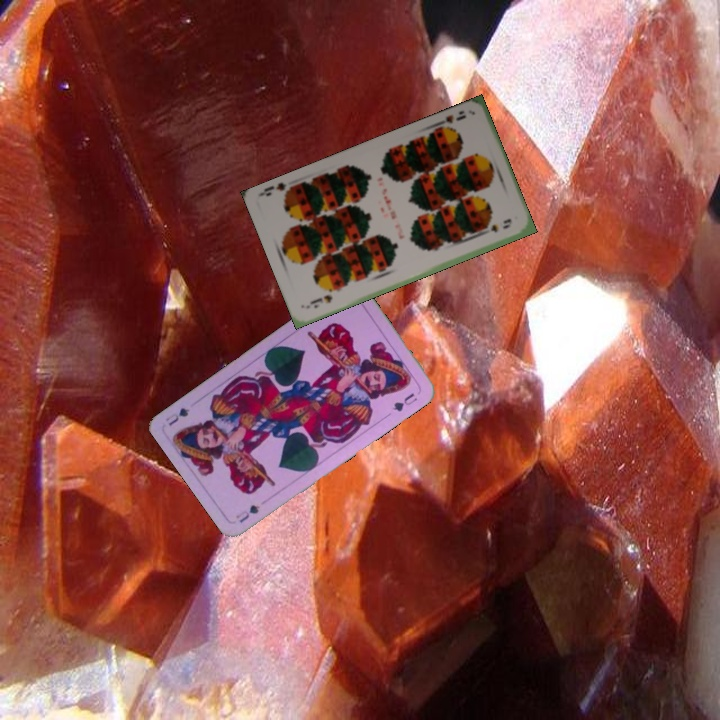GU: (232, 500, 262, 525)
S9: (432, 111, 469, 131), (310, 291, 335, 311)
